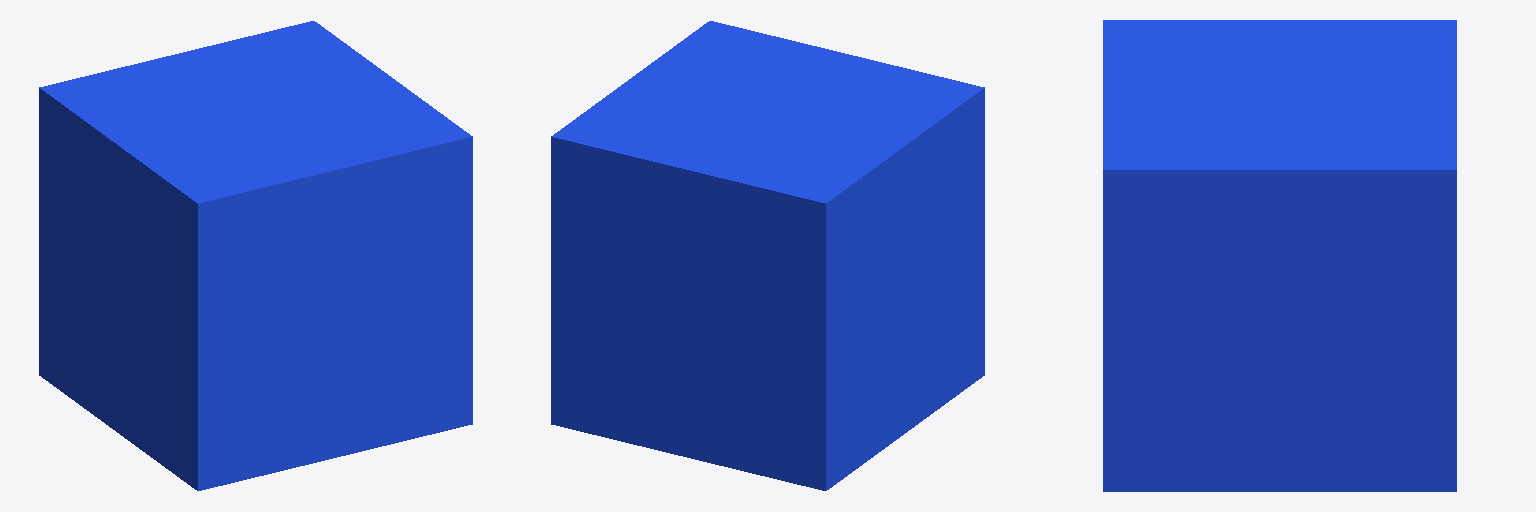
robot.urdf — red_box:
<?xml version="1.0"?>
<robot name="red_box">

  <link name="base_link">
    <collision>
      <origin xyz="0 0 0.02" rpy="0 0 0" />
      <geometry>
        <box size="0.04 0.04 0.04" />
      </geometry>
    </collision>

    <visual>
      <origin xyz="0 0 0.02" rpy="0 0 0" />
      <geometry>
        <box size="0.04 0.04 0.04" />
      </geometry>
      <material name="blue">
        <color rgba=".2 .4 1 1.0" />
      </material>
    </visual>

    <inertial>
      <origin xyz="0.0 0.0 0.02" rpy="0 0 0" />
      <mass value=".006784" />
      <inertia ixx=".18e-05" iyy=".18e-05" izz=".18e-05" ixy="0.0" iyz="0.0" ixz="0.0" />
    </inertial>
  </link>

  <gazebo reference="base_link">
    <material>Gazebo/Blue</material>
    <kp>1000000.0</kp>
    <kd>1.0</kd>
    <mu1>1.16</mu1>
    <mu2>1.16</mu2>
    <maxVel>0.0</maxVel>
    <minDepth>0.003</minDepth>
  </gazebo>


</robot>

--- Facts derived from the render (not from the file) ---
Views: 3 orthographic renders of the robot side by side, from view 1: azimuth 30°, elevation 25°; view 2: azimuth 150°, elevation 25°; view 3: azimuth 270°, elevation 25°.
Model red_box with 1 links and 0 joints (none), rooted at base_link, posed every joint at zero.
Visible links, largest first — view 1: base_link; view 2: base_link; view 3: base_link.
Link boxes in pixels (<box>): base_link: <box>39,21,472,490</box>; base_link: <box>551,21,984,490</box>; base_link: <box>1103,20,1456,491</box>.
Size in the robot's own frame: 0.04 by 0.04 by 0.04 metres.
Geometry: primitives only (box / cylinder / sphere), no mesh files.
